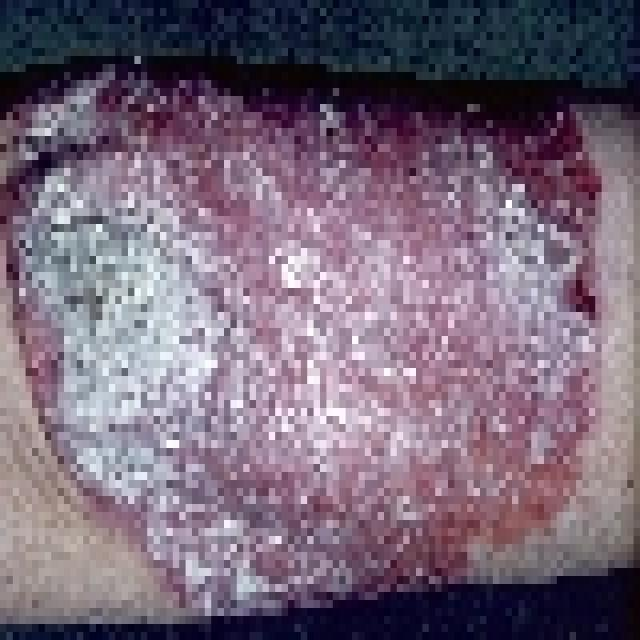lupus: (6, 58, 614, 599)
